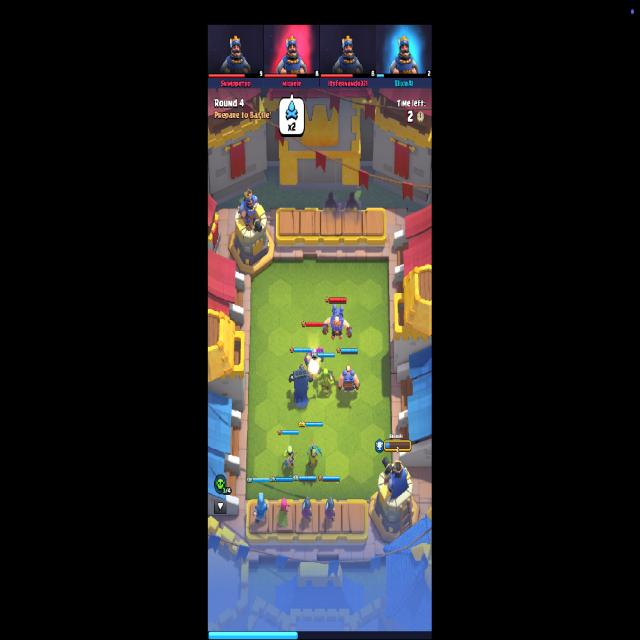archer: (276, 498, 292, 529)
dart_goblin: (305, 436, 321, 467)
electro_giant: (324, 306, 353, 344), (338, 366, 361, 397)
musketeer: (300, 496, 313, 524), (324, 496, 336, 525)
pekka: (304, 347, 325, 380)
skeleton_king: (289, 364, 315, 407)
spear_goblin: (282, 444, 298, 471)
wizard: (252, 492, 270, 527)
